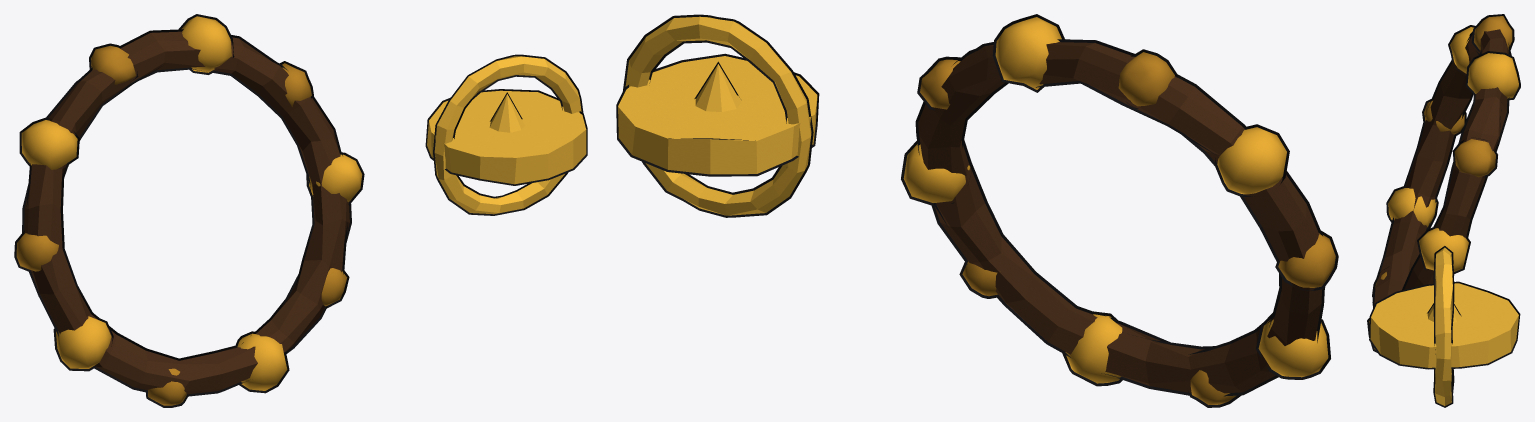
The model's file is courage_charm_v1.glb.
The picture shows the model from 3 angles, left to right: view 1: azimuth 30°, elevation 25°; view 2: azimuth 150°, elevation 25°; view 3: azimuth 270°, elevation 25°; orthographic projection. The views are drawn at different scales.
Parts seen in each view (by area): view 1: VirtueBracelet, CourageCharm, VirtueBracelet_Outline, CourageCharm_Outline; view 2: VirtueBracelet, CourageCharm, VirtueBracelet_Outline, CourageCharm_Outline; view 3: VirtueBracelet, CourageCharm, VirtueBracelet_Outline, CourageCharm_Outline.
Part boxes in pixels (x1,y1,x2,y2): VirtueBracelet: [16, 16, 362, 405]; CourageCharm: [427, 56, 586, 214]; VirtueBracelet_Outline: [14, 14, 364, 407]; CourageCharm_Outline: [425, 54, 587, 215]; VirtueBracelet: [903, 17, 1335, 404]; CourageCharm: [618, 16, 817, 215]; VirtueBracelet_Outline: [901, 14, 1338, 407]; CourageCharm_Outline: [616, 14, 819, 217]; VirtueBracelet: [1369, 16, 1518, 349]; CourageCharm: [1370, 247, 1518, 405]; VirtueBracelet_Outline: [1367, 14, 1520, 352]; CourageCharm_Outline: [1369, 246, 1520, 407].
Size of the model in its own units: 0.6133 by 0.3441 by 0.1587.
Materials: 5 (5 with a texture image).
